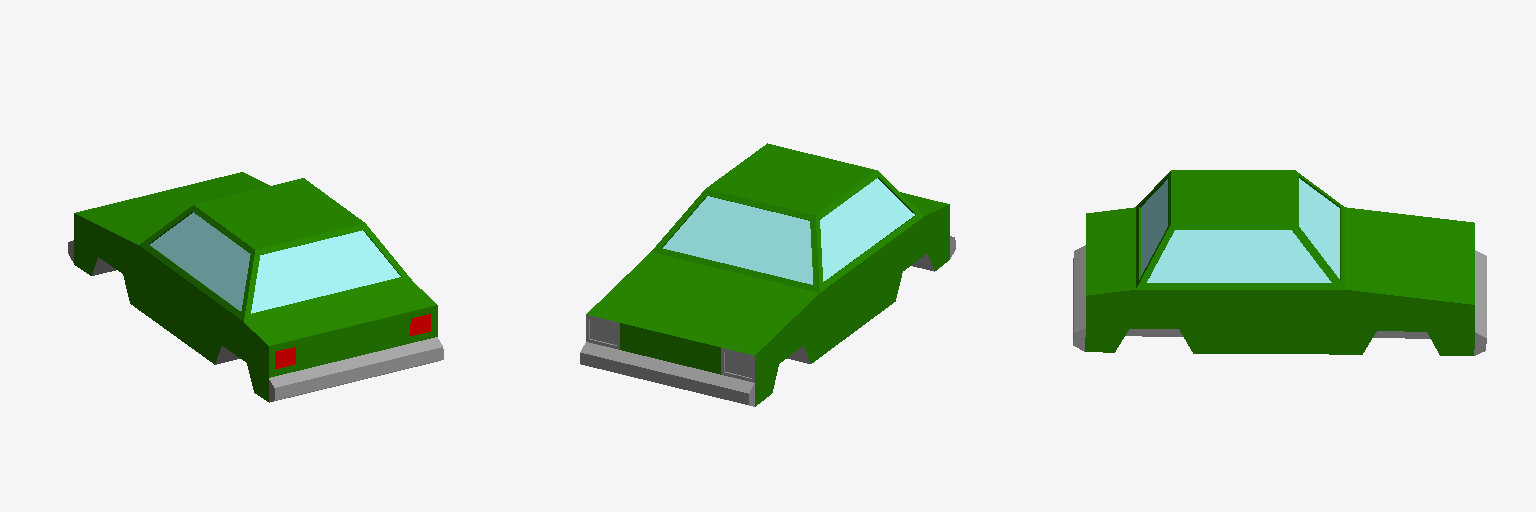
Rendered from body.obj.
3 renders of one model, left to right at view 1: azimuth 30°, elevation 25°; view 2: azimuth 150°, elevation 25°; view 3: azimuth 270°, elevation 25°, orthographic.
Visible parts, largest first — view 1: cube1; view 2: cube1; view 3: cube1.
Part boxes in pixels (bbox=[...]): cube1: bbox=[68, 172, 443, 402]; cube1: bbox=[580, 143, 955, 406]; cube1: bbox=[1073, 170, 1486, 355].
Bounding box in the file's own units: 2 × 1.34 × 4.24.